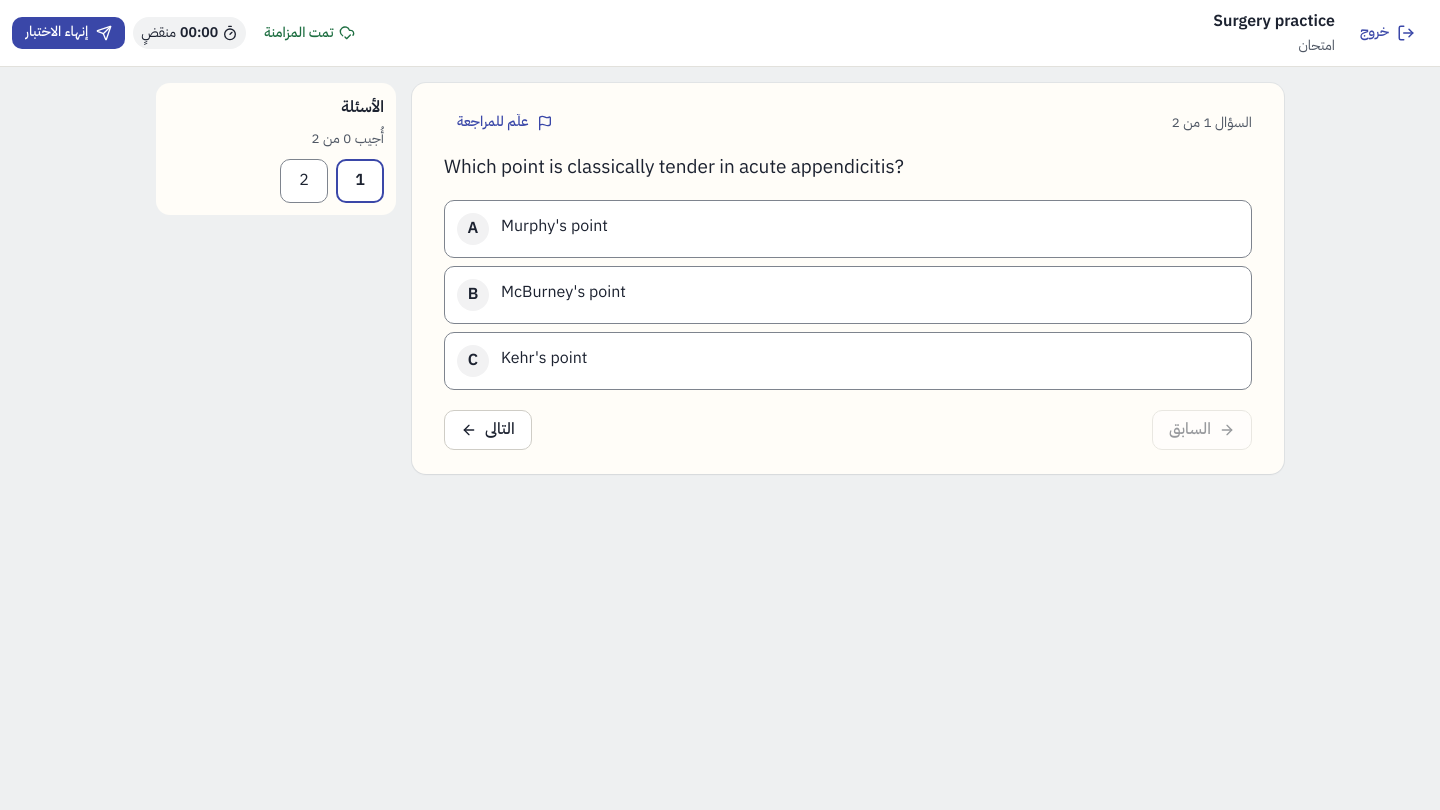
Test: exam runner (assessed) › keyboard answering is saved locally first with a full-state outbox upsert; no pause, no hints, no solution
Expected: the text "السؤال 1 من 2" is shown, [1171,111,1252,134]
Press 2
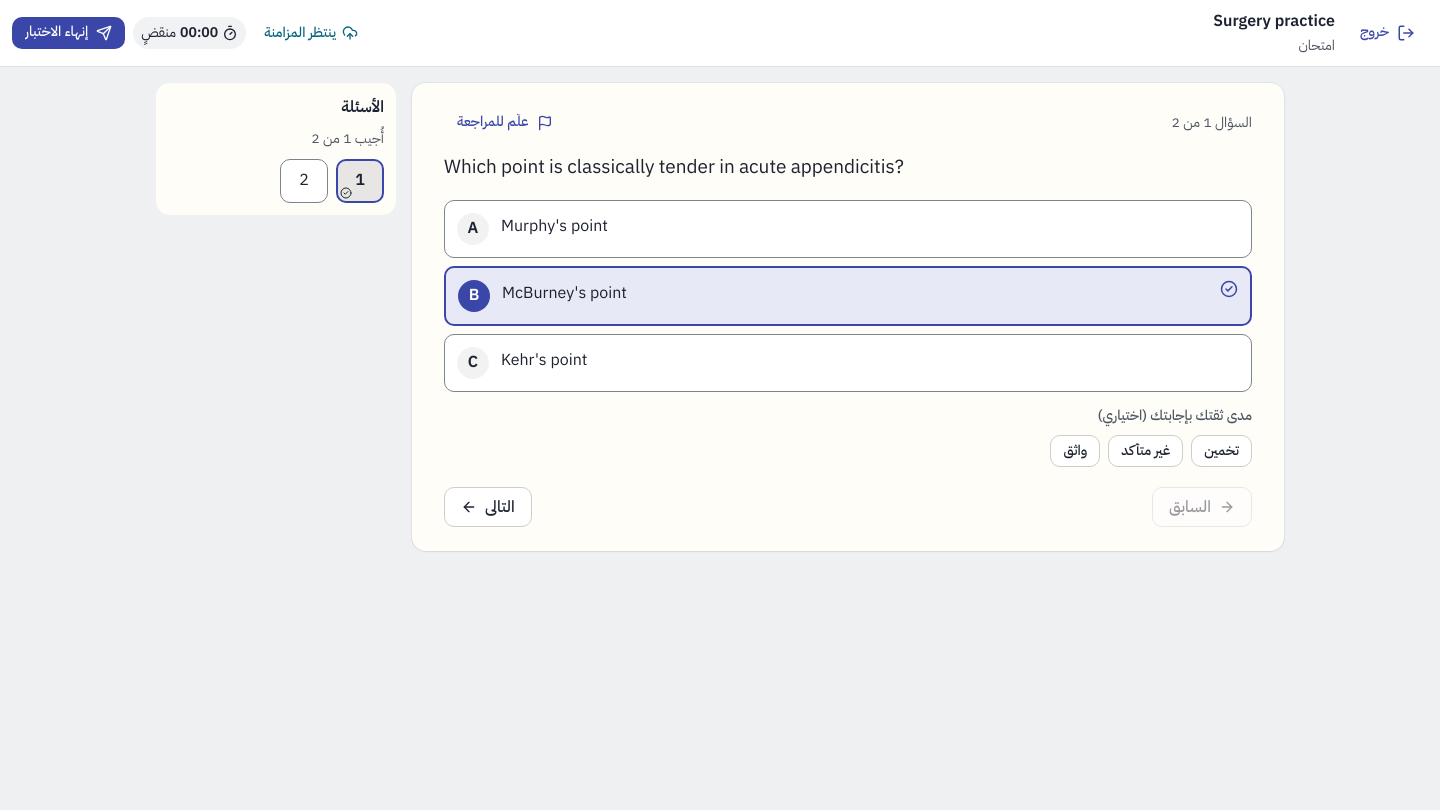
Expected: the radio button labelled "B McBurney's point" is checked, [444,266,1252,326]
confidence after answering
Click the button "واثق": [1075, 451] box [1050,435,1100,467]
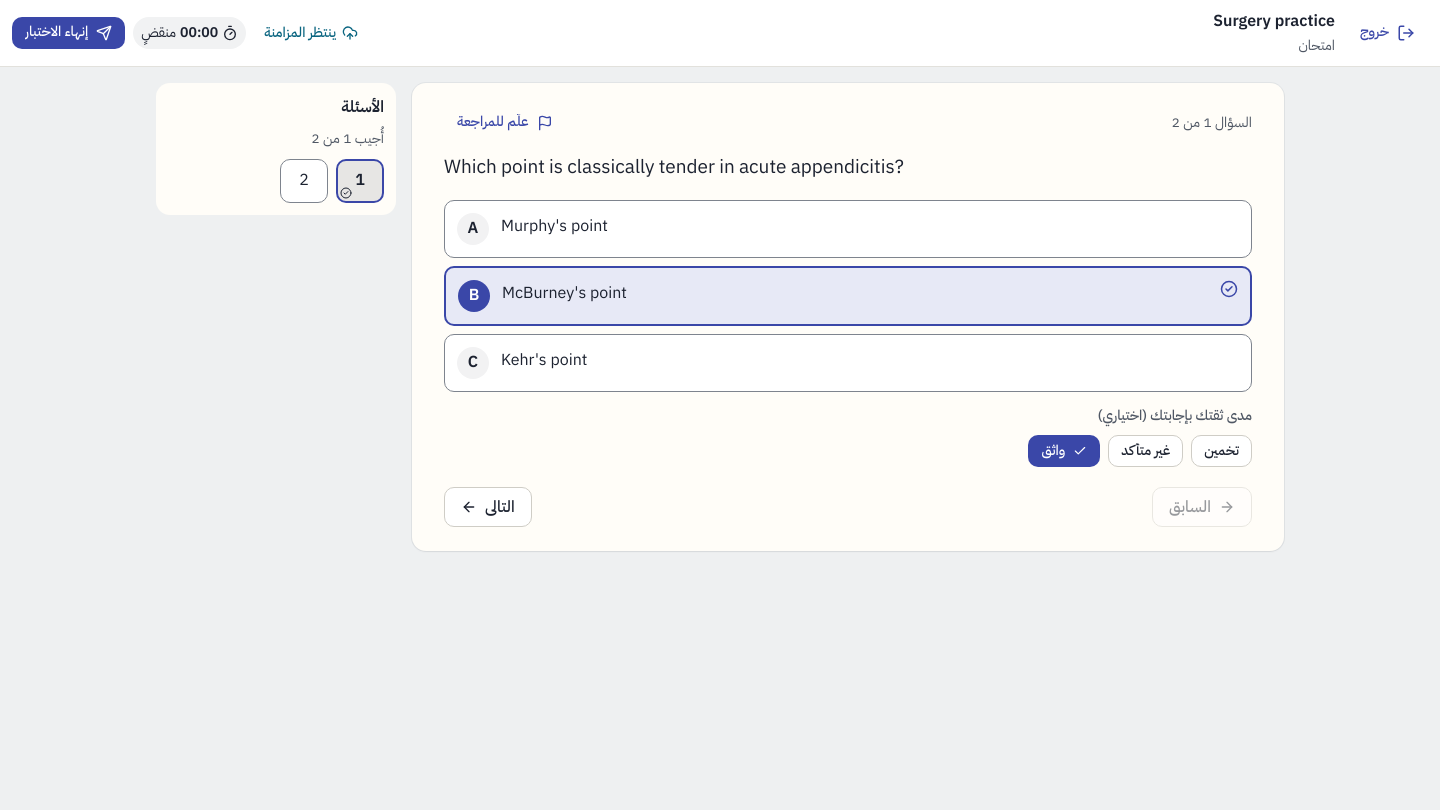
Press ArrowLeft
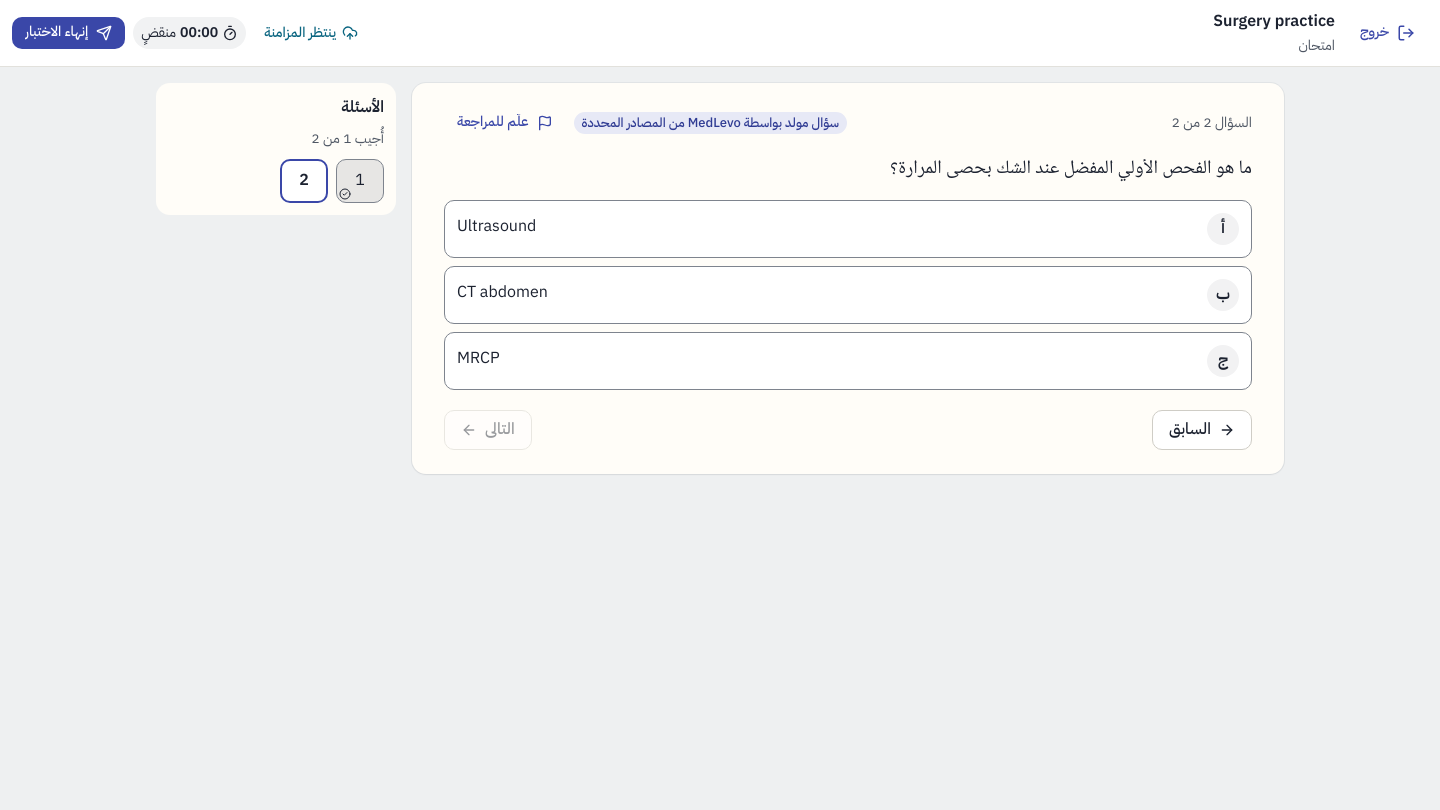
Expected: the text "السؤال 2 من 2" is shown, [1171,111,1252,134]
Press ج
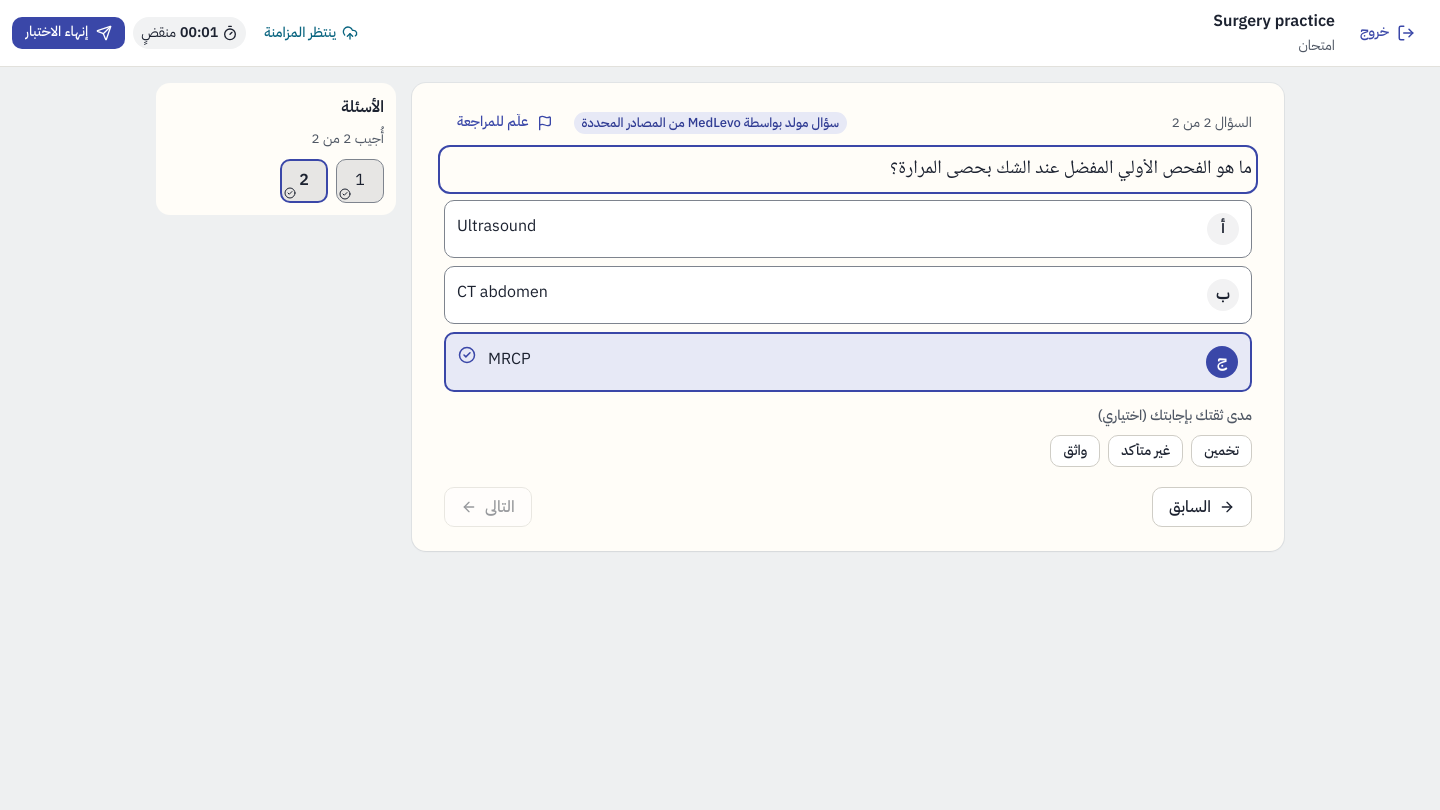
Expected: the button named "السؤال 2، مُجاب، الحالي" is shown, [280,159,328,203]
